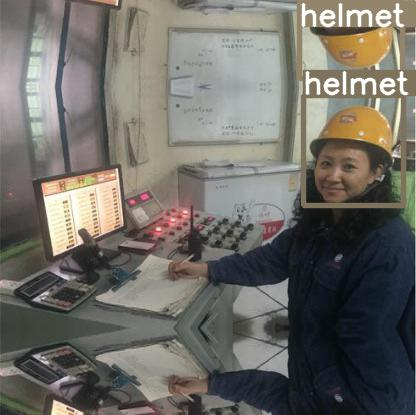helmet: (303, 95, 403, 205), (299, 1, 402, 78)
